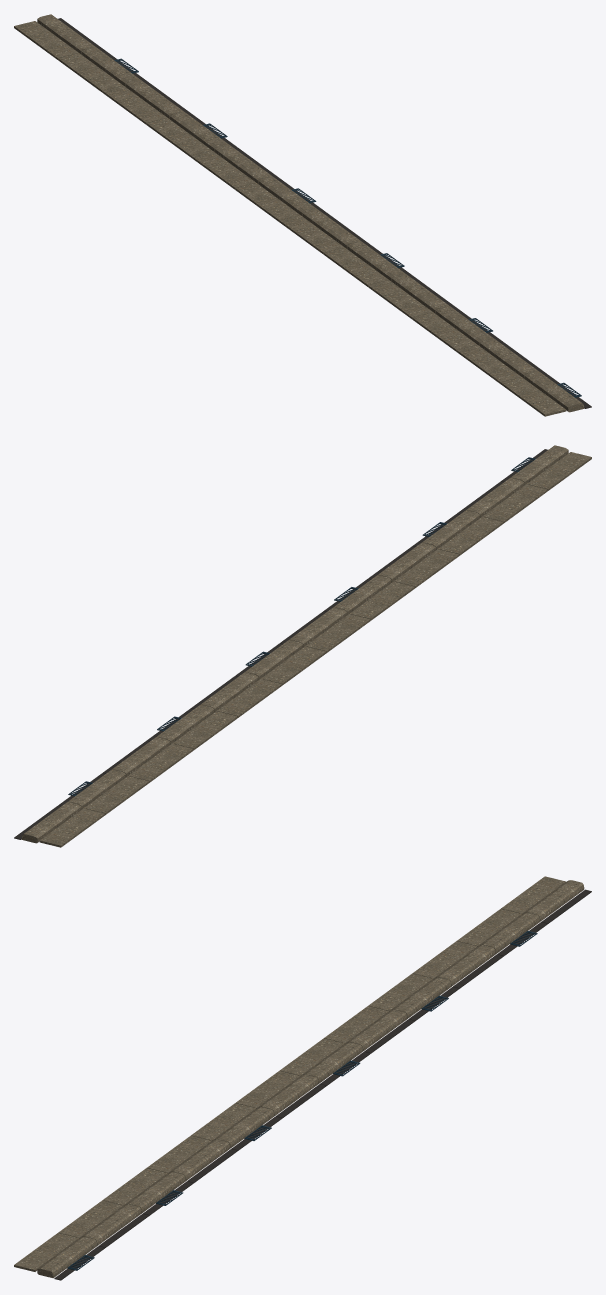
The model's file is central_curb_outer_minus.gltf.
3 views of the same model, one above another, from view 1: azimuth 30°, elevation 25°; view 2: azimuth 150°, elevation 25°; view 3: azimuth 330°, elevation 25° (orthographic).
Parts seen in each view (by area): view 1: RealPhotoPBRStreetCurb_outer_minus; view 2: RealPhotoPBRStreetCurb_outer_minus; view 3: RealPhotoPBRStreetCurb_outer_minus.
Part boxes in pixels (bbox=[...]): RealPhotoPBRStreetCurb_outer_minus: bbox=[14, 14, 591, 416]; RealPhotoPBRStreetCurb_outer_minus: bbox=[14, 445, 591, 847]; RealPhotoPBRStreetCurb_outer_minus: bbox=[14, 876, 591, 1280].
Size of the model in its own units: 1.96 by 0.259 by 35.98.
3 materials, 3 textured.
